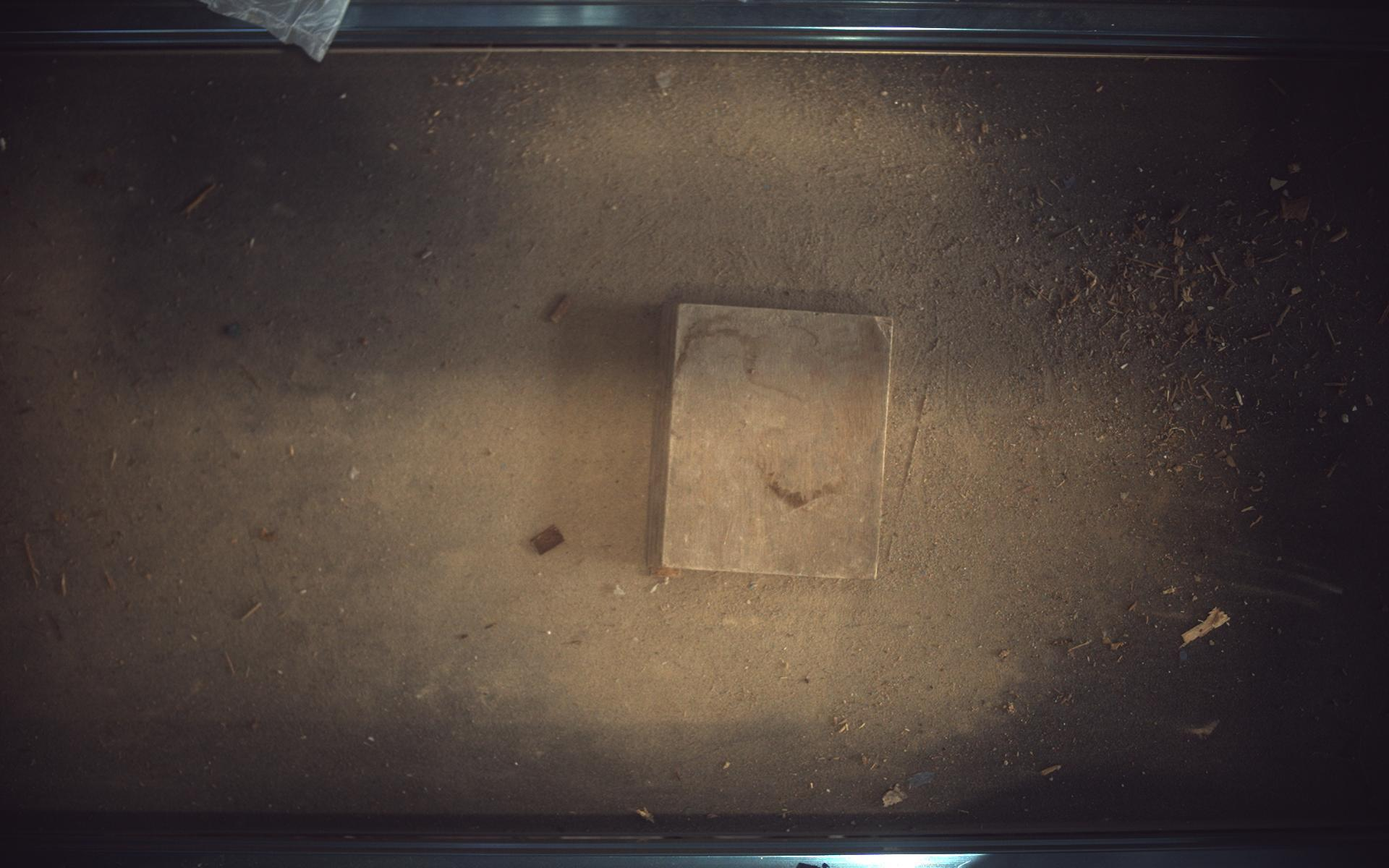wood: (649, 303, 893, 579)
